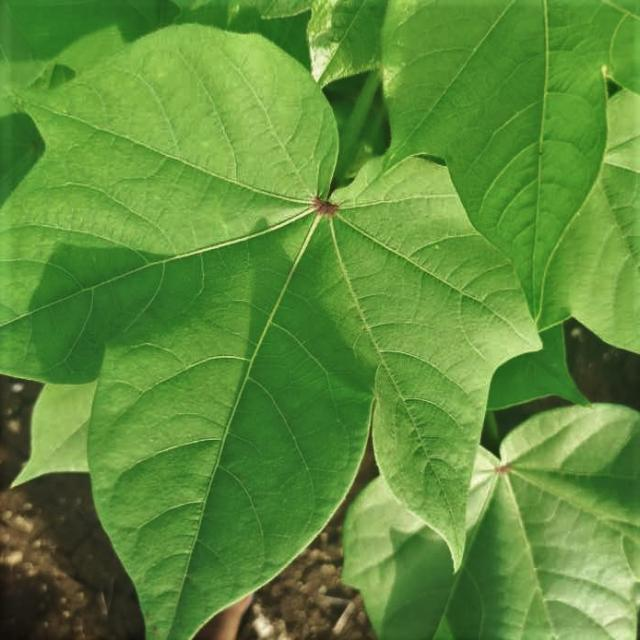Healthy Leaf: (30, 11, 640, 622)
